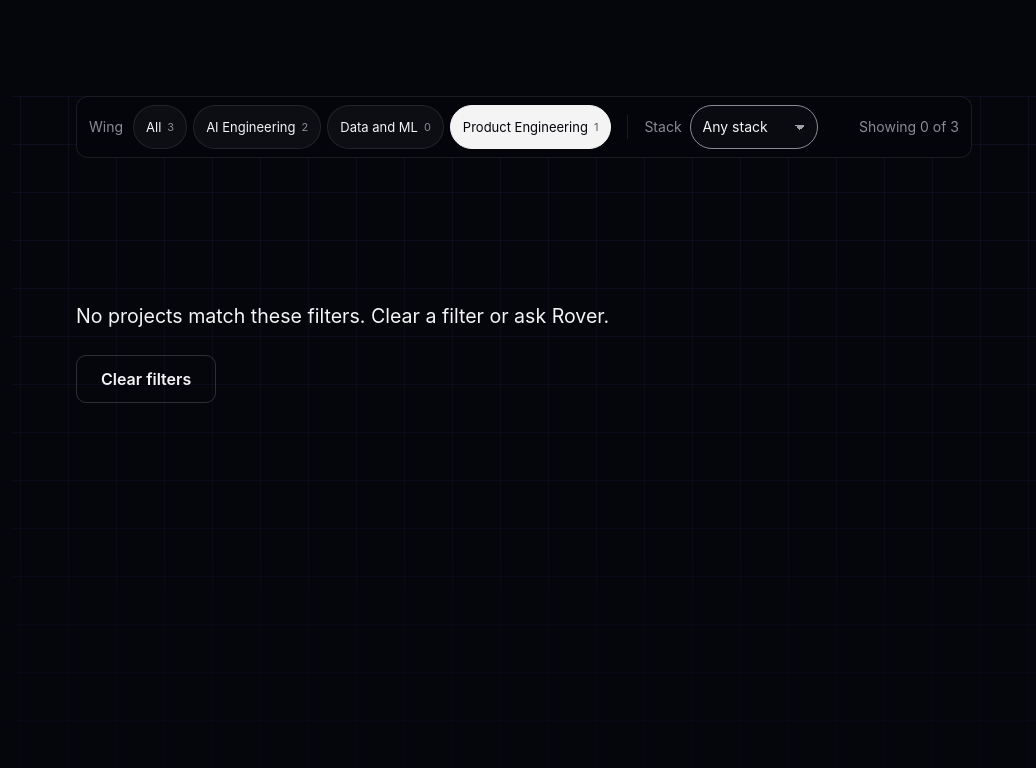
Scenario: WorkIndex › shows an empty state that clears the filters
The image size is (1036, 768).
Expected: the text "No projects match these filters. Clear a filter or ask Rover." is shown, top-left (76, 304), bottom-right (609, 328)
Expected: the message reads "Showing 0 of 3", top-left (859, 118), bottom-right (959, 135)
Click the button "Clear filters".
click(146, 379)  # box top-left (76, 355), bottom-right (216, 403)
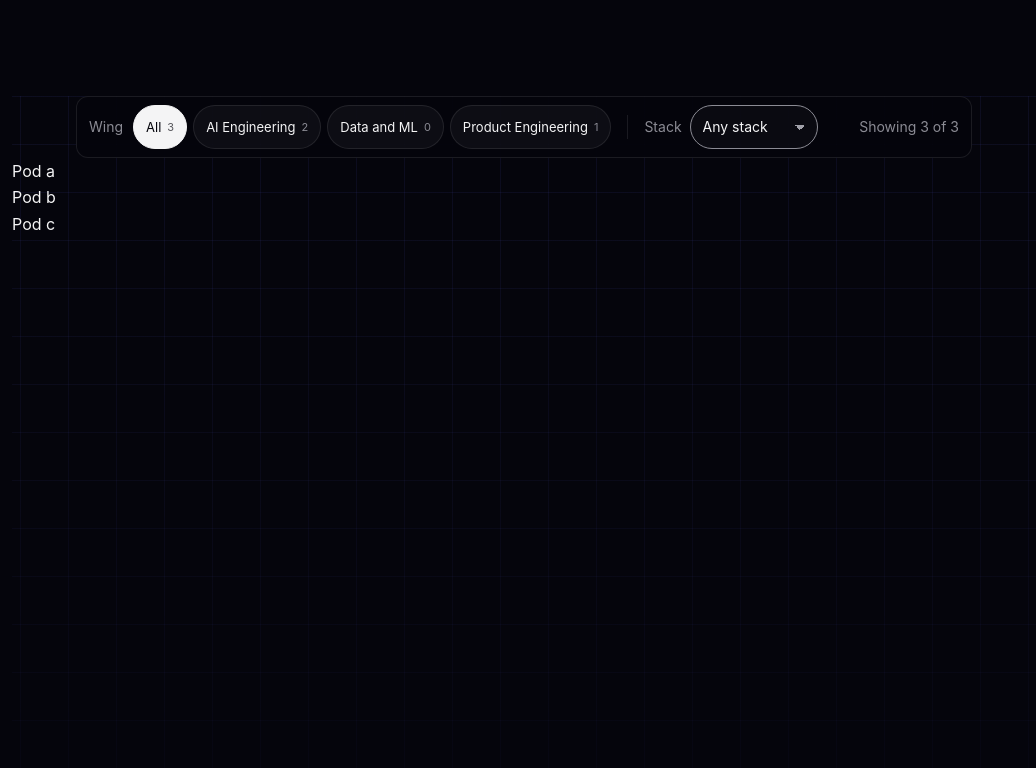
Result: the list item "Pod a" is shown at top-left (12, 161), bottom-right (55, 181)
Result: the list item "Pod b" is shown at top-left (12, 187), bottom-right (56, 207)
Result: the list item "Pod c" is shown at top-left (12, 214), bottom-right (55, 234)
